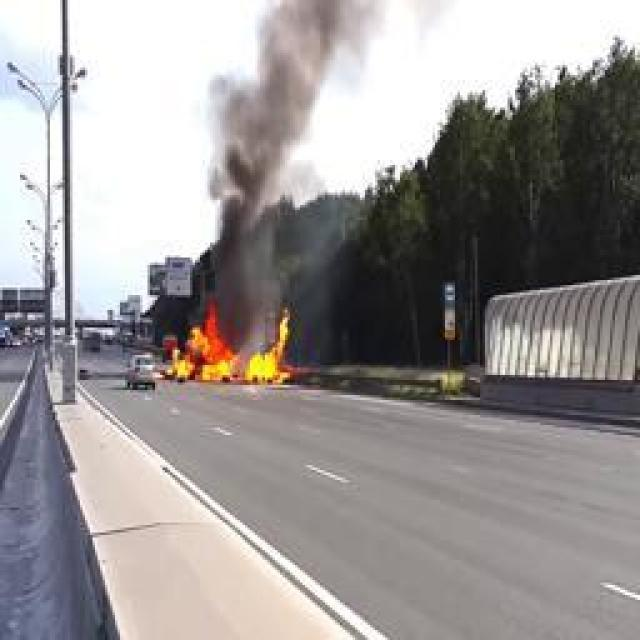Fire: (165, 305, 290, 383)
